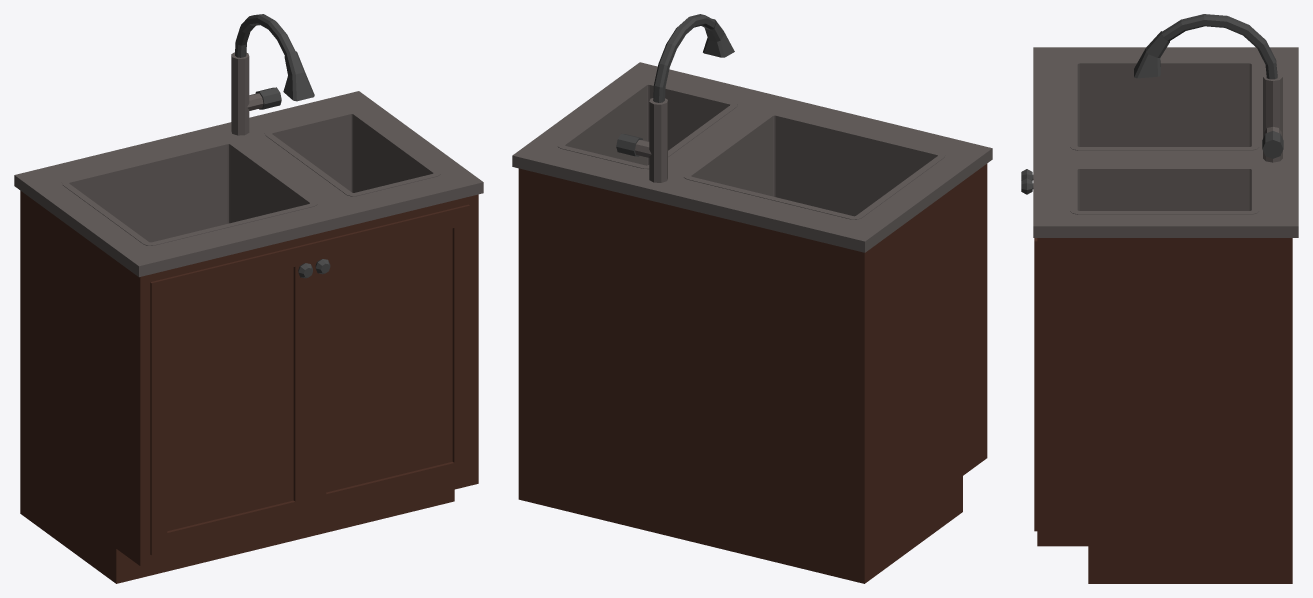
The model's file is SteelSink1KitchenCabinet1.glb.
3 views of the same model, side by side, from view 1: azimuth 30°, elevation 25°; view 2: azimuth 150°, elevation 25°; view 3: azimuth 270°, elevation 25° (orthographic). The views are drawn at different scales.
Visible parts, largest first — view 1: SteelSinkKitchenCabinet1, DoorR1SteelSinkKitchenCabinet1, DoorL1SteelSinkKitchenCabinet1, FaucetSpout1SteelSinkKitchenCabinet1; view 2: SteelSinkKitchenCabinet1, FaucetSpout1SteelSinkKitchenCabinet1; view 3: SteelSinkKitchenCabinet1, FaucetSpout1SteelSinkKitchenCabinet1, DoorL1SteelSinkKitchenCabinet1, FaucetLever1SteelSinkKitchenCabinet1.
Part boxes in pixels (box(x1,y1,x2,y2)): SteelSinkKitchenCabinet1: box(14, 52, 483, 583); DoorR1SteelSinkKitchenCabinet1: box(150, 243, 312, 555); DoorL1SteelSinkKitchenCabinet1: box(310, 204, 469, 516); FaucetSpout1SteelSinkKitchenCabinet1: box(235, 14, 314, 101); SteelSinkKitchenCabinet1: box(512, 62, 992, 583); FaucetSpout1SteelSinkKitchenCabinet1: box(653, 14, 734, 102); SteelSinkKitchenCabinet1: box(1033, 47, 1298, 583); FaucetSpout1SteelSinkKitchenCabinet1: box(1134, 14, 1277, 79); DoorL1SteelSinkKitchenCabinet1: box(1021, 178, 1037, 531); FaucetLever1SteelSinkKitchenCabinet1: box(1262, 131, 1283, 158).
Bounding box in the file's own units: 0.9707 × 1.27 × 0.6359.
